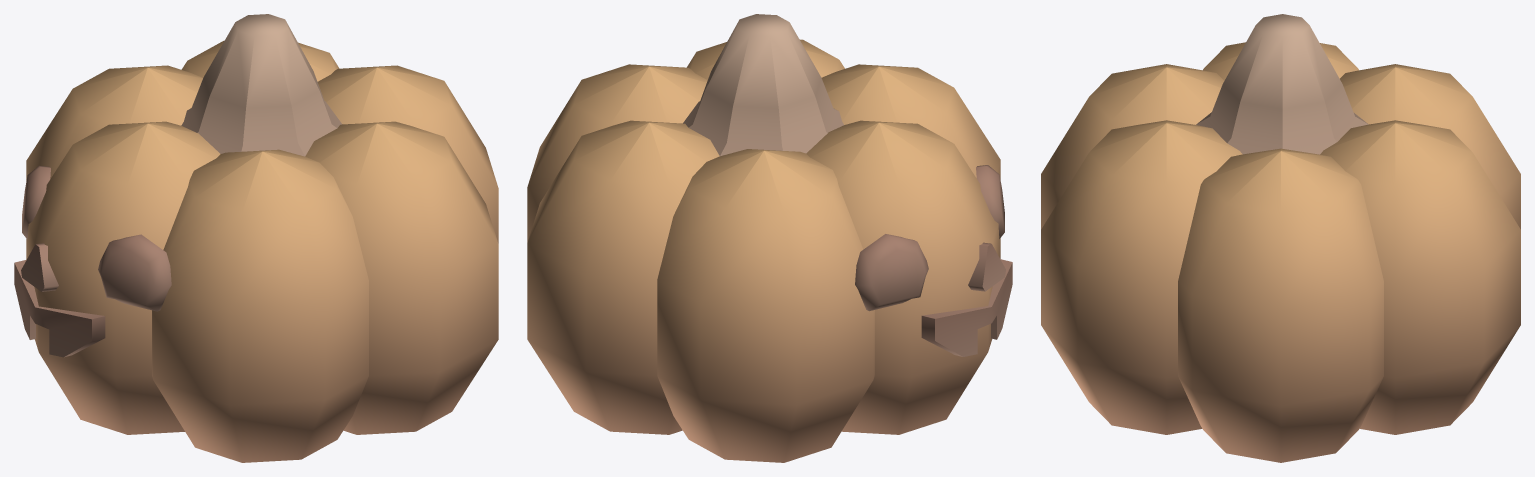
File: pumpkin-carved.glb
3 renders of one model, left to right at view 1: azimuth 30°, elevation 25°; view 2: azimuth 150°, elevation 25°; view 3: azimuth 270°, elevation 25°, orthographic.
Visible parts, largest first — view 1: pumpkin-carved; view 2: pumpkin-carved; view 3: pumpkin-carved.
Part boxes in pixels (<box>): pumpkin-carved: <box>14,14,498,462</box>; pumpkin-carved: <box>527,14,1012,462</box>; pumpkin-carved: <box>1041,14,1520,462</box>.
Bounding box in the file's own units: 0.5944 × 0.4373 × 0.5451.
